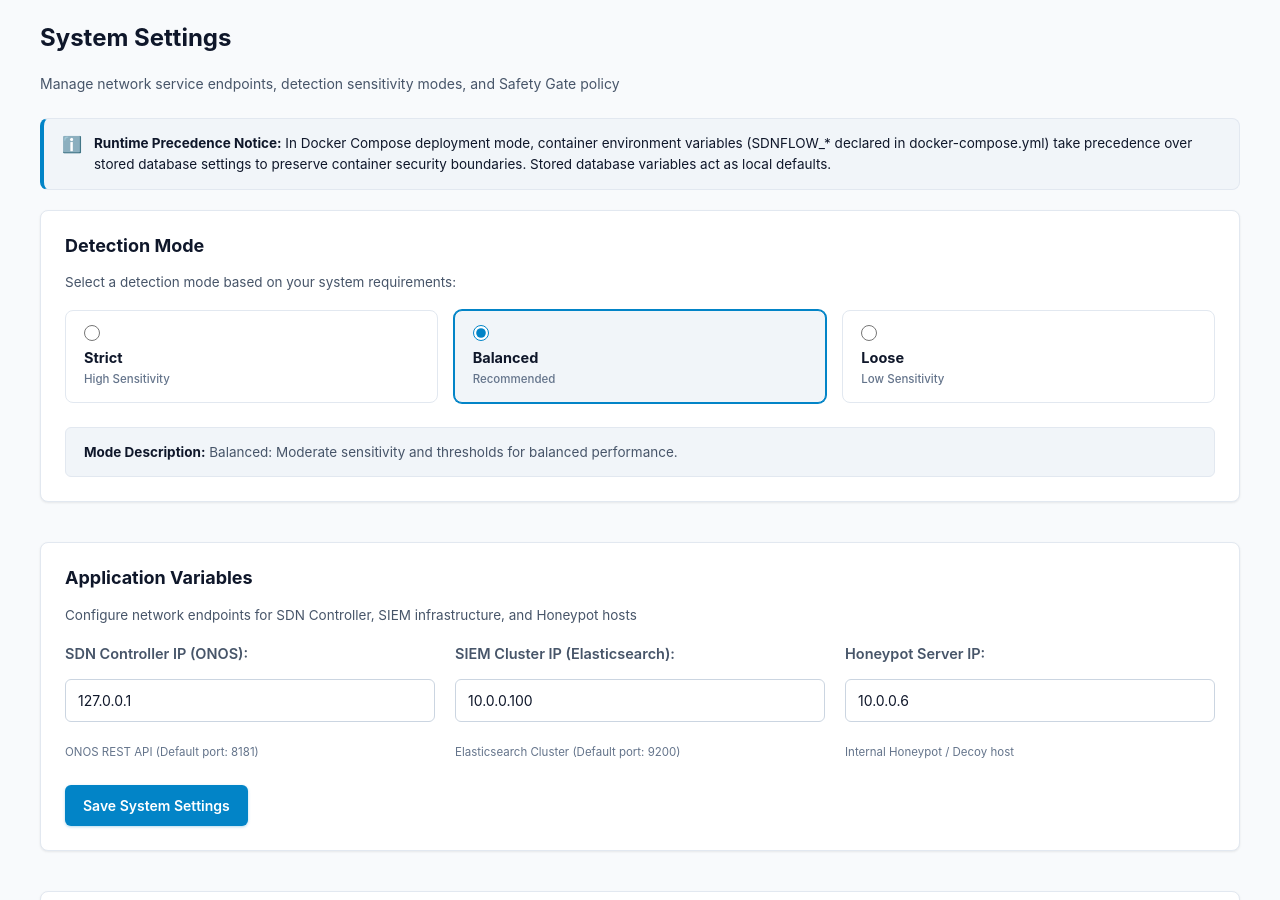
Test case: SystemSettings Enterprise Layout & Functional Verification › handles detection mode switching
This screenshot has width=1280, height=900.
expect the field showing "127.0.0.1" is shown: met, box x1=65 y1=679 x2=435 y2=722
expect the radio button labelled "Balanced Recommended" is checked: met, box x1=473 y1=326 x2=489 y2=342
Click the radio button labelled "Strict High Sensitivity".
click(92, 334)  # box x1=84 y1=326 x2=100 y2=342
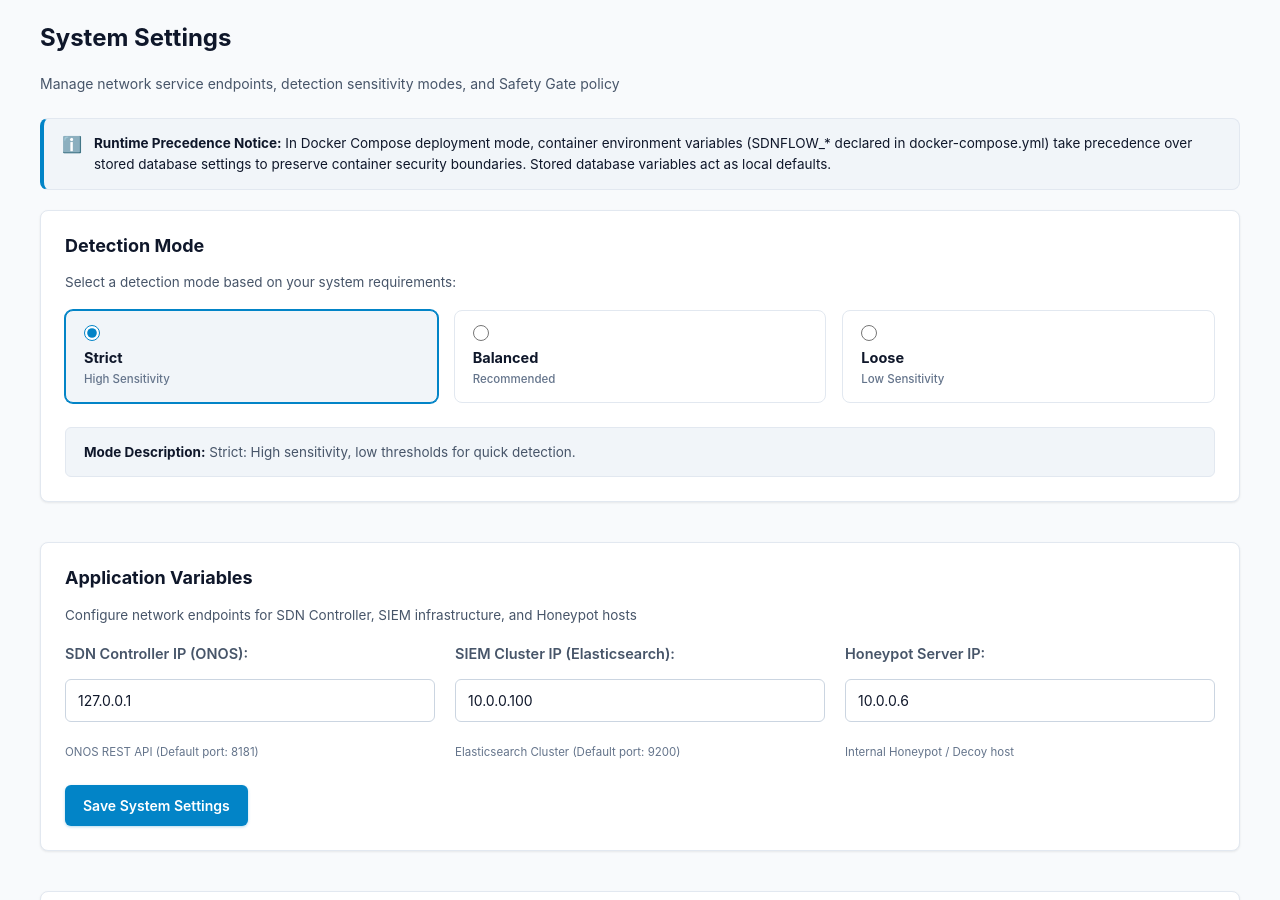
expect the radio button labelled "Strict High Sensitivity" is checked: met, box x1=84 y1=326 x2=100 y2=342
expect the text "High sensitivity, low thresholds" is shown: met, box x1=209 y1=444 x2=576 y2=460
